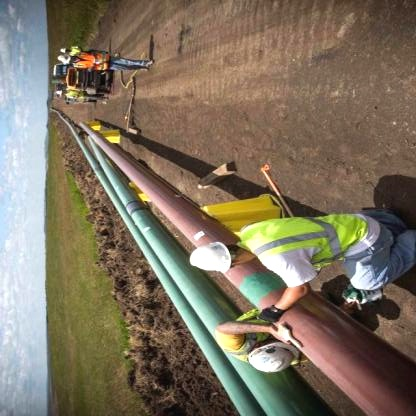vest: (239, 209, 371, 271), (70, 49, 109, 73), (65, 89, 83, 98)
white: (245, 341, 298, 379), (183, 241, 236, 278), (56, 54, 73, 66), (50, 89, 68, 99), (58, 47, 70, 56)
